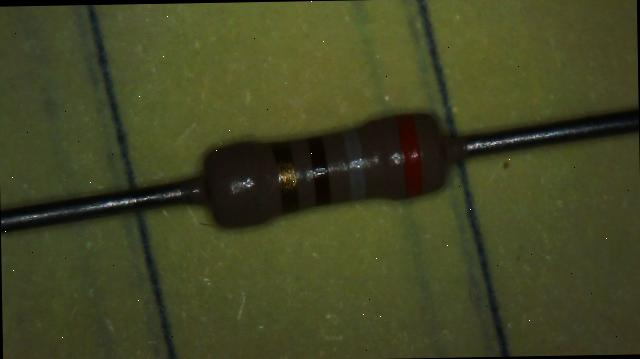brown: (308, 136, 330, 205)
gold: (273, 142, 298, 212)
orange: (396, 114, 424, 196)
resistor: (178, 90, 476, 242)
white: (343, 128, 366, 199)
